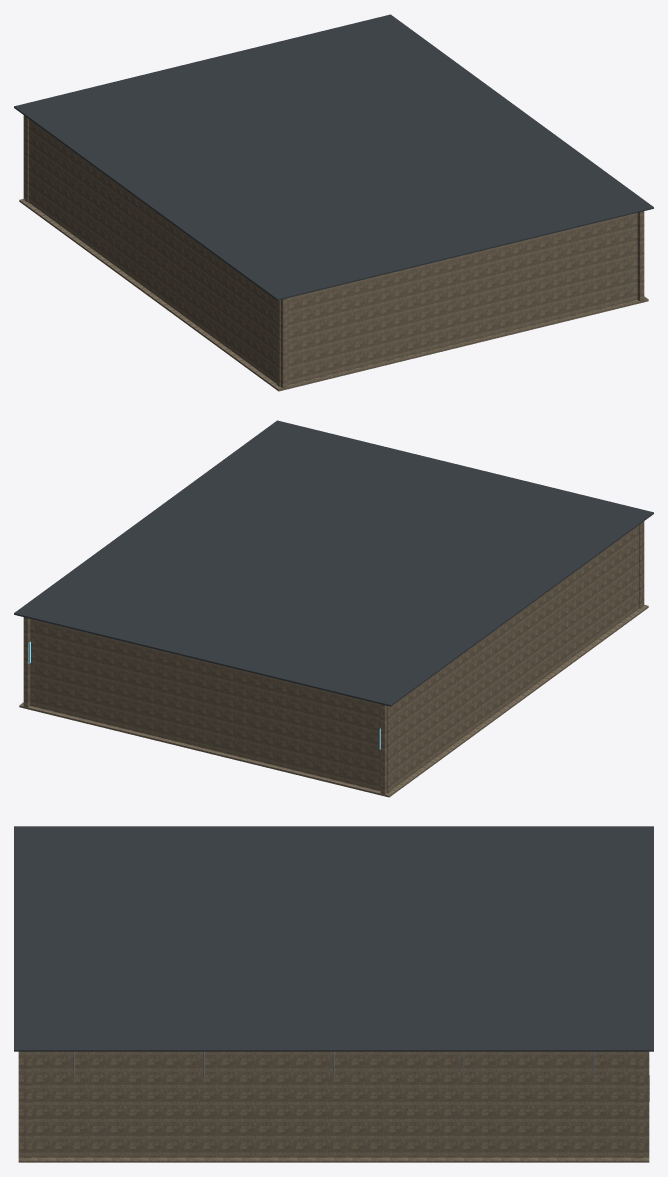
Rendered from factory.glb.
3 renders of one model, top to bottom at view 1: azimuth 30°, elevation 25°; view 2: azimuth 150°, elevation 25°; view 3: azimuth 270°, elevation 25°, orthographic. The views are drawn at different scales.
Visible parts, largest first — view 1: Shed roof, Factory end wall, Brick shed wall, Industrial floor, Brick shed wall.001; view 2: Shed roof, Factory end wall.001, Brick shed wall, Industrial floor, Brick shed wall.001; view 3: Shed roof, Brick shed wall.001, Industrial floor, Factory end wall, Factory end wall.001.
Boxes of the visible parts, x1,y1,x2,y2 form: Shed roof: (14,14,653,300); Factory end wall: (276,213,637,386); Brick shed wall: (23,115,287,388); Industrial floor: (19,199,648,391); Brick shed wall.001: (637,211,644,301); Shed roof: (14,420,653,706); Factory end wall.001: (30,619,391,792); Brick shed wall: (380,521,644,794); Industrial floor: (19,605,648,797); Brick shed wall.001: (23,617,30,707); Shed roof: (14,826,653,1051); Brick shed wall.001: (18,1051,649,1157); Industrial floor: (18,1157,649,1162); Factory end wall: (24,1051,31,1158); Factory end wall.001: (636,1051,643,1158).
Bounding box in the file's own units: 58.54 × 13.71 × 69.
Materials: 11 (3 with a texture image).
